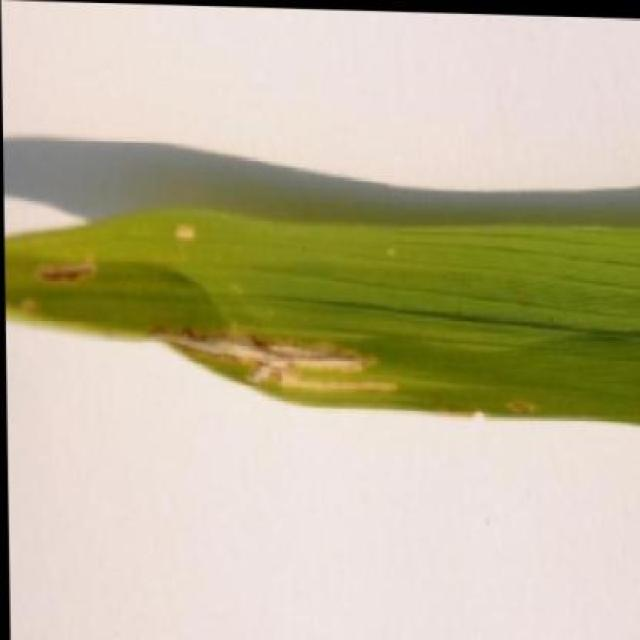Brown_Spot: (1, 199, 640, 425)
